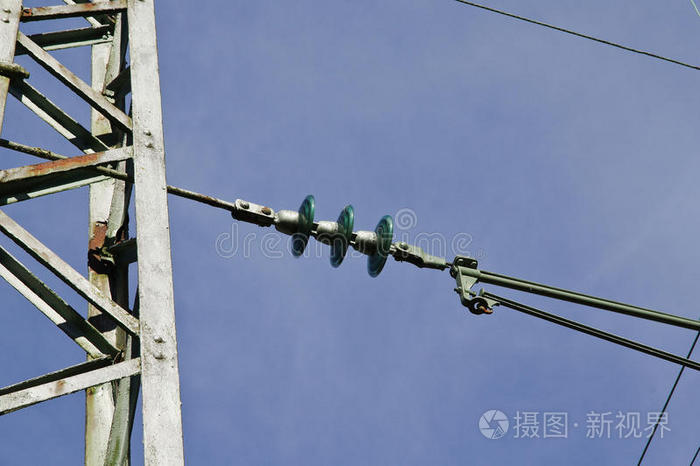insulator: (291, 193, 393, 279)
